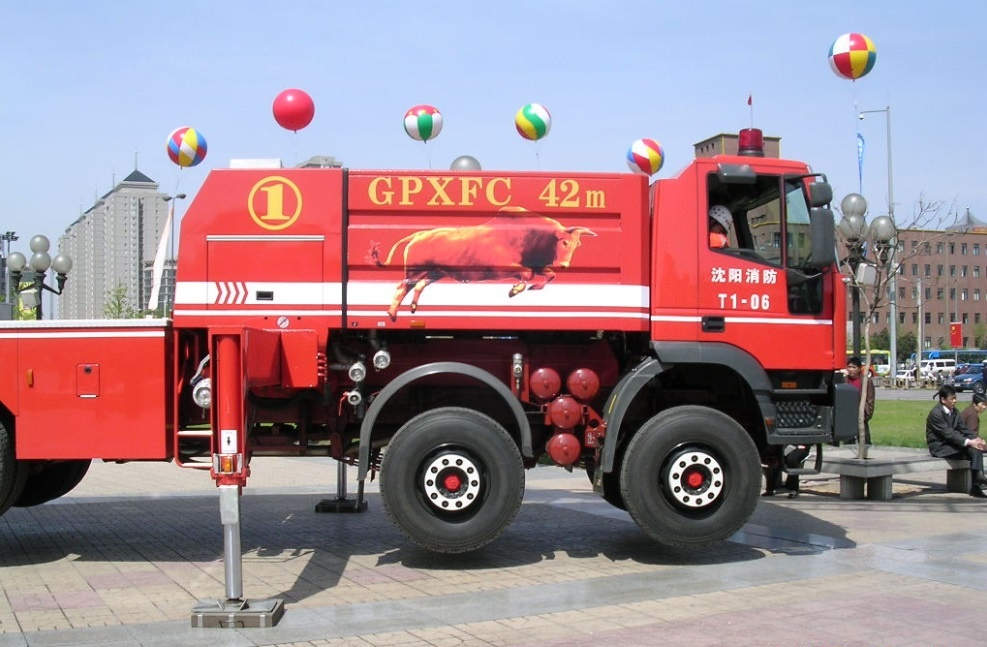fire engine: (2, 135, 856, 558)
